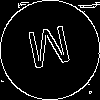M: (25, 25, 75, 78)
